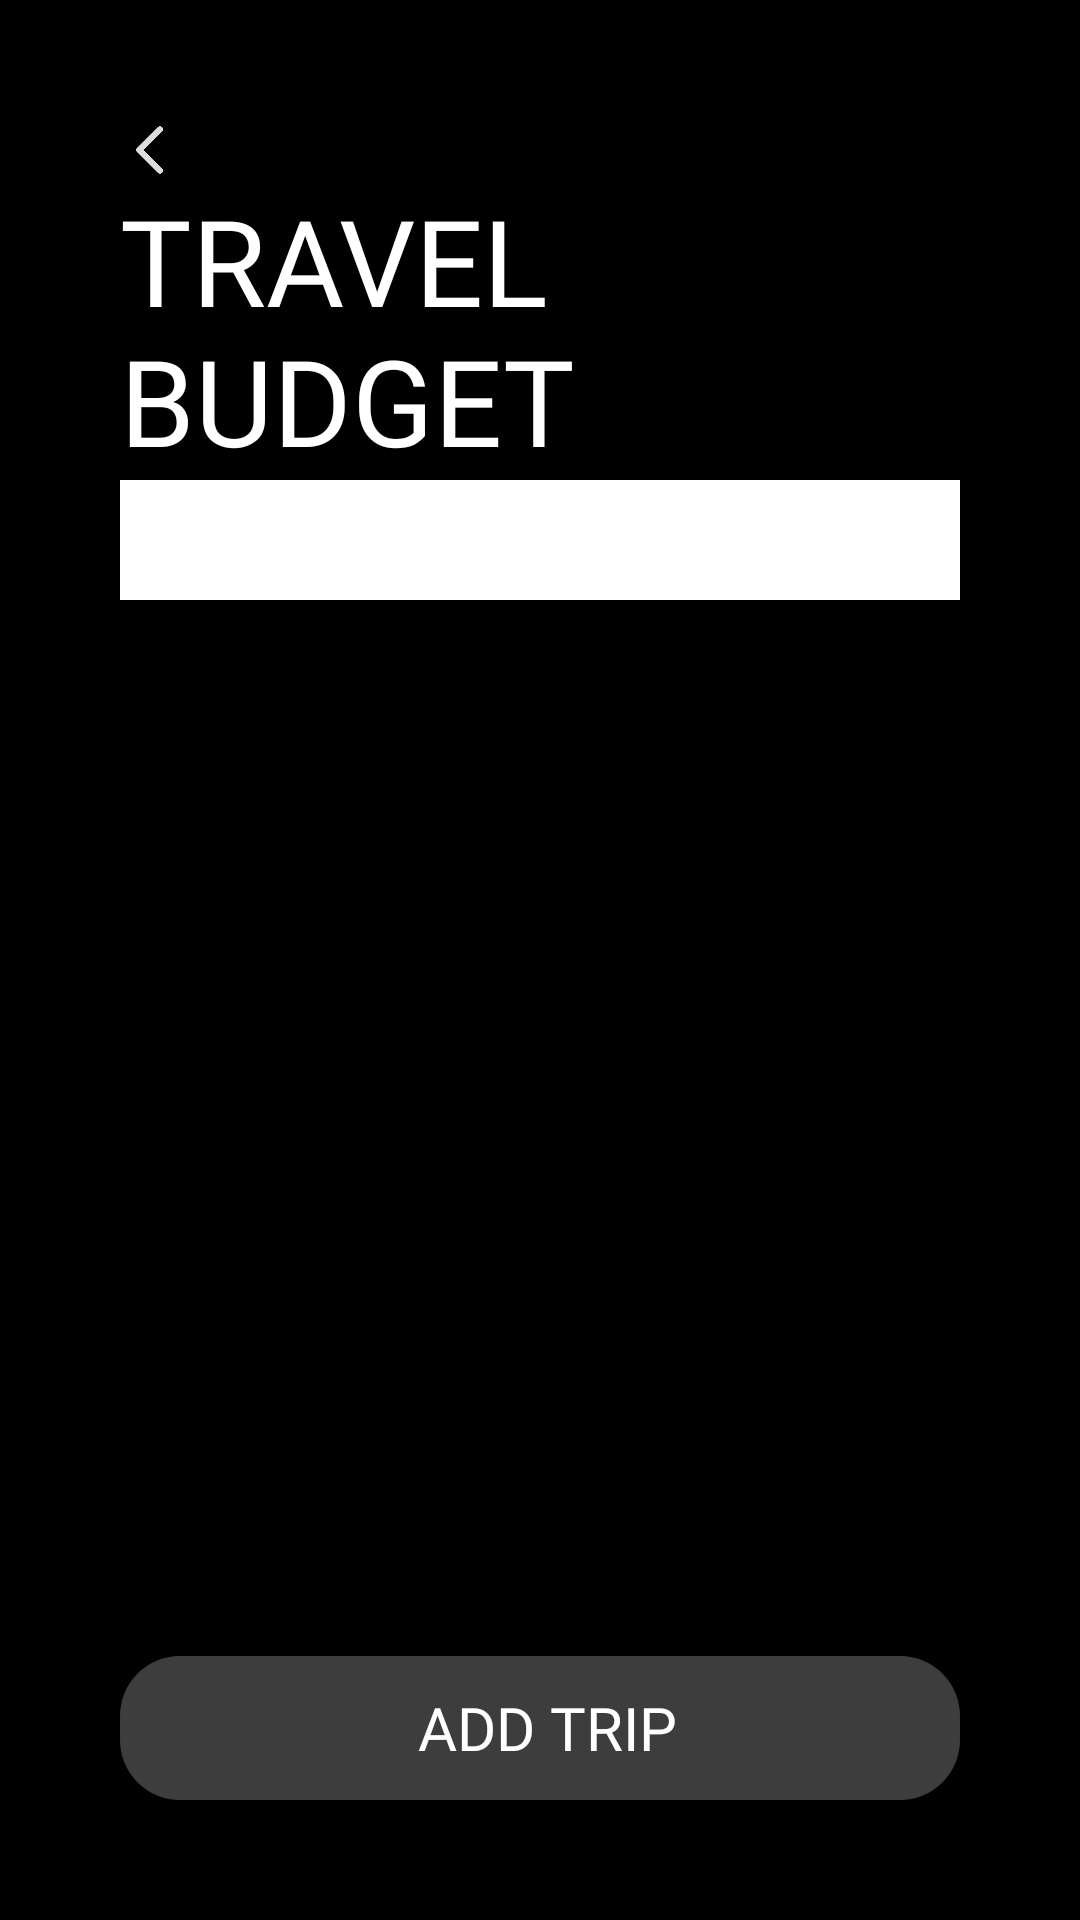

Screen size 1080 x 1920. Icon name, then its box in pixels as (x1, y1, x2, y2):
backb: (136, 126, 163, 174)
